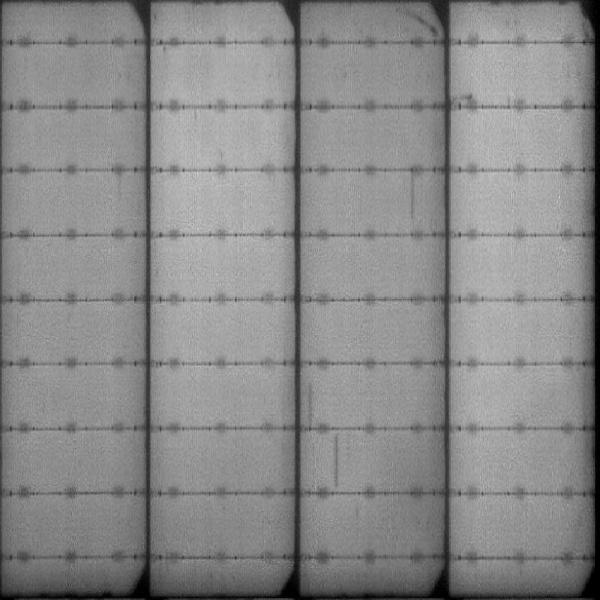scratch: (394, 9, 439, 39), (327, 430, 342, 489), (405, 166, 417, 223)
